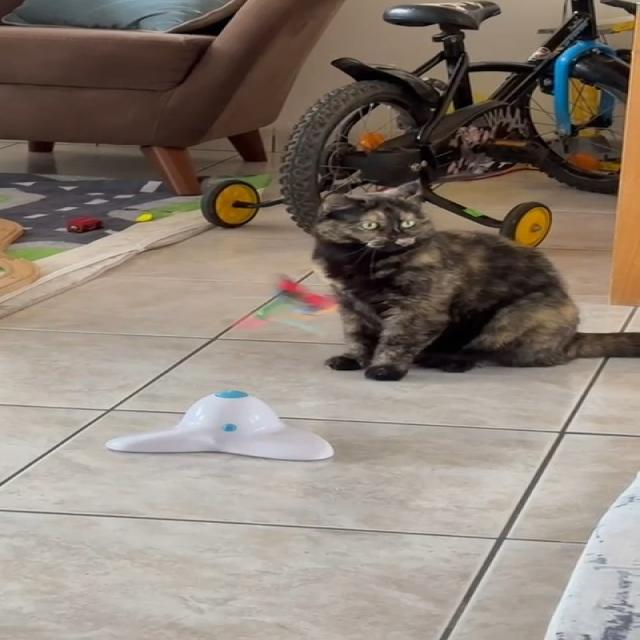authorized: (309, 180, 639, 381)
